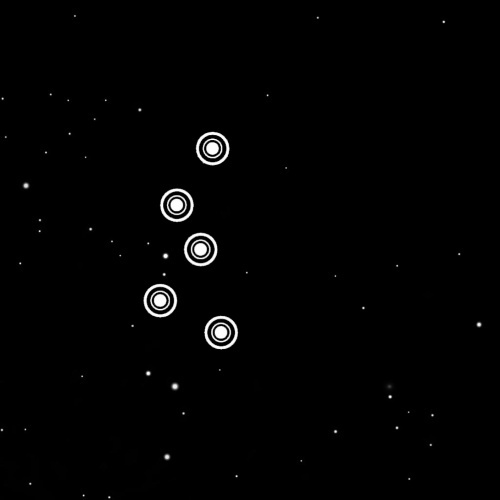cassiopeia: (135, 122, 248, 358)
